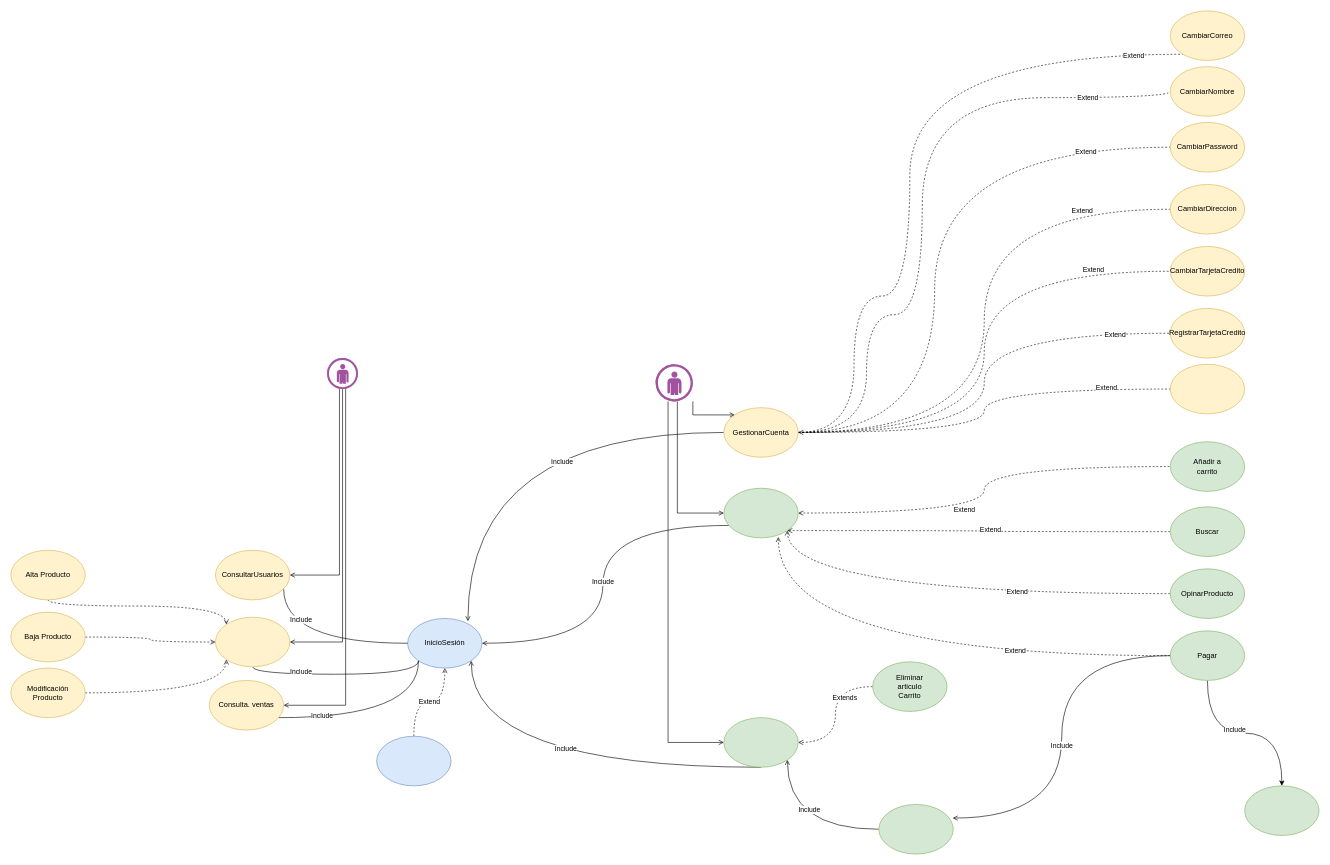
Some shapes in this 1330 by 865 pixel diagram are drawn without their labels. Here are the shapes that lost their labels. From the top down, the centre of each, then its label:
pixel 342 373: Administrador
pixel 674 382: User
pixel 1207 389: CambiarTelefono
pixel 760 513: Comprar
pixel 252 642: ConsultarProductos
pixel 413 761: CrearUsuario
pixel 760 742: GestionarCarrito
pixel 915 829: VerCarrito
pixel 1281 810: Validar tarjeta de credito
